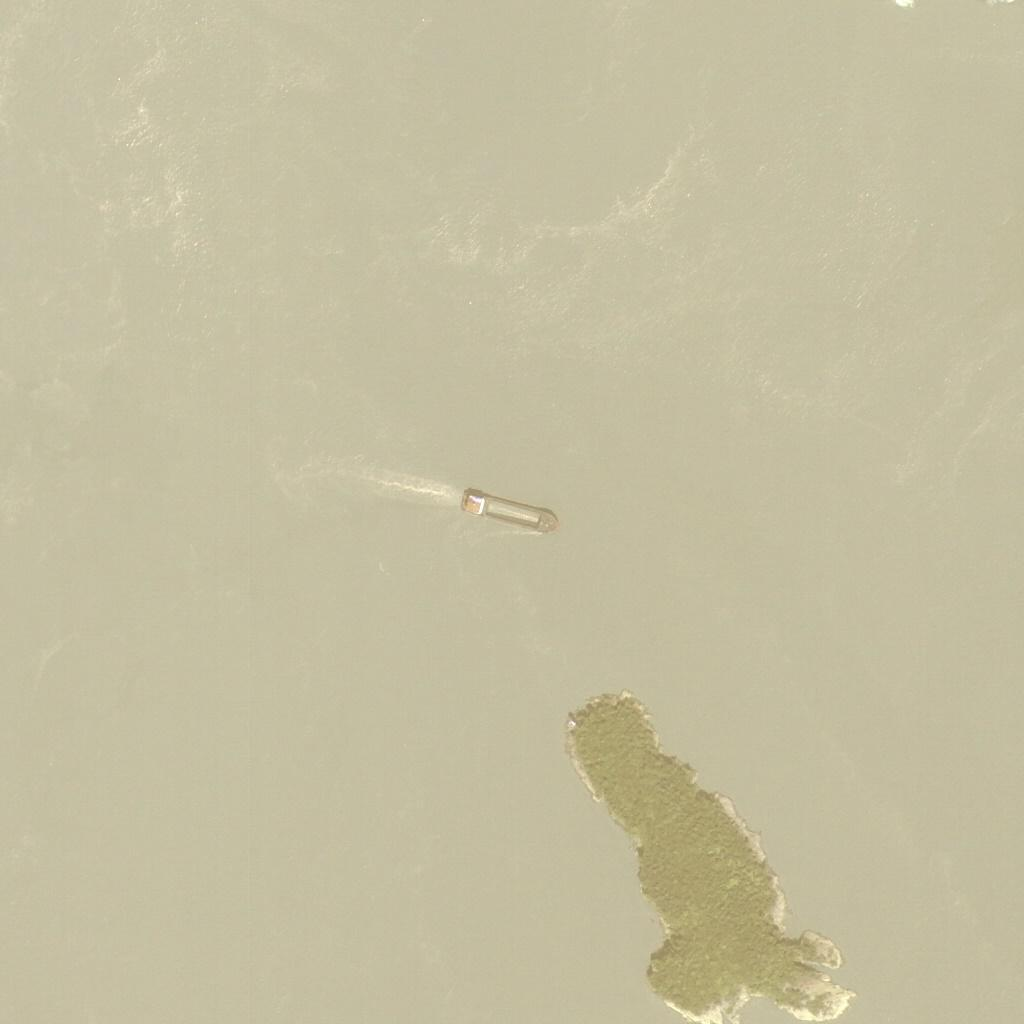ship: (460, 486, 560, 541)
